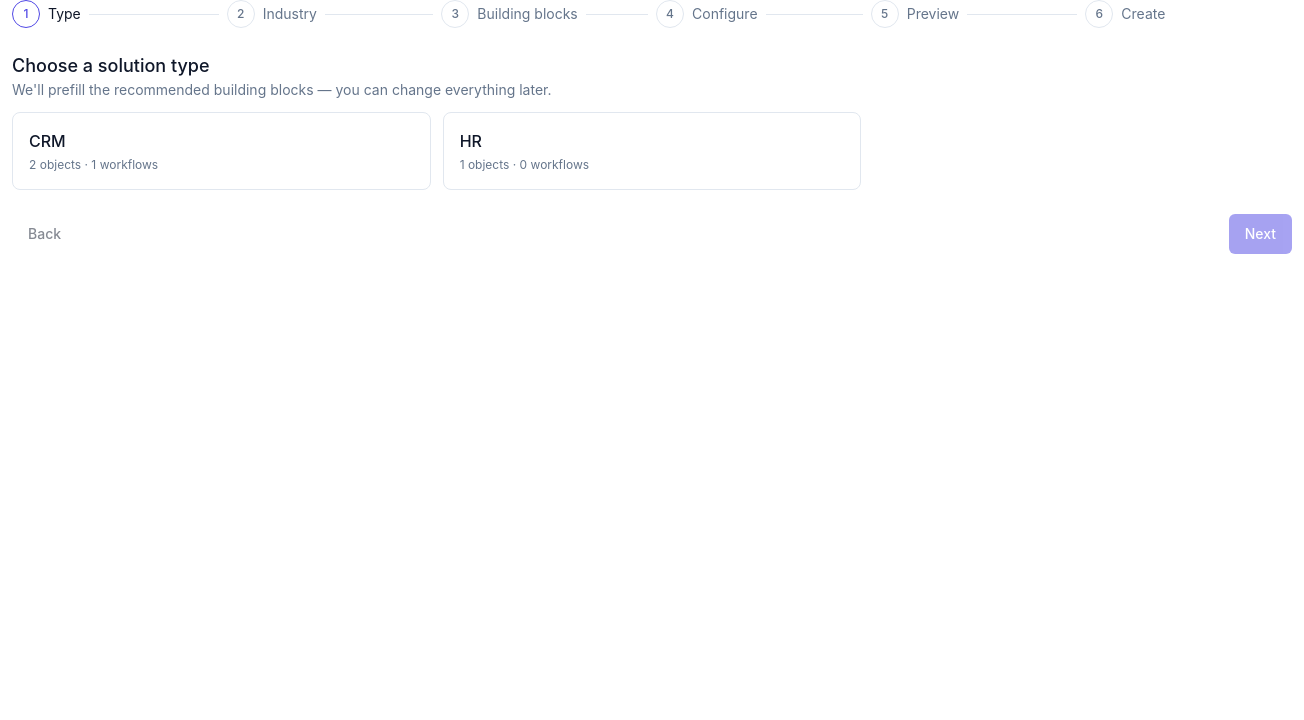
Test case: WizardFlow › merges an industry preset over the type defaults
Click the button with aria-label "Select CRM".
click(47, 141)  # box [12, 112, 431, 190]
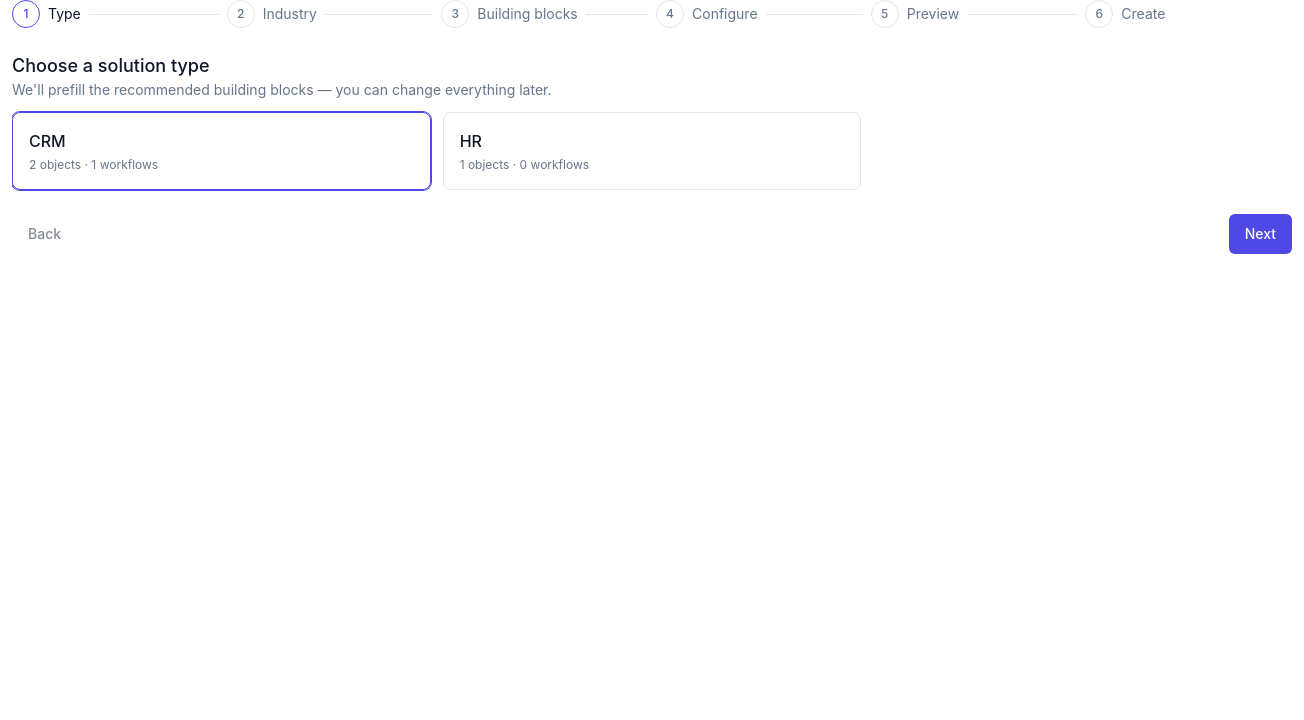
Click the button "Next".
click(1260, 234)  # box [1229, 214, 1292, 254]
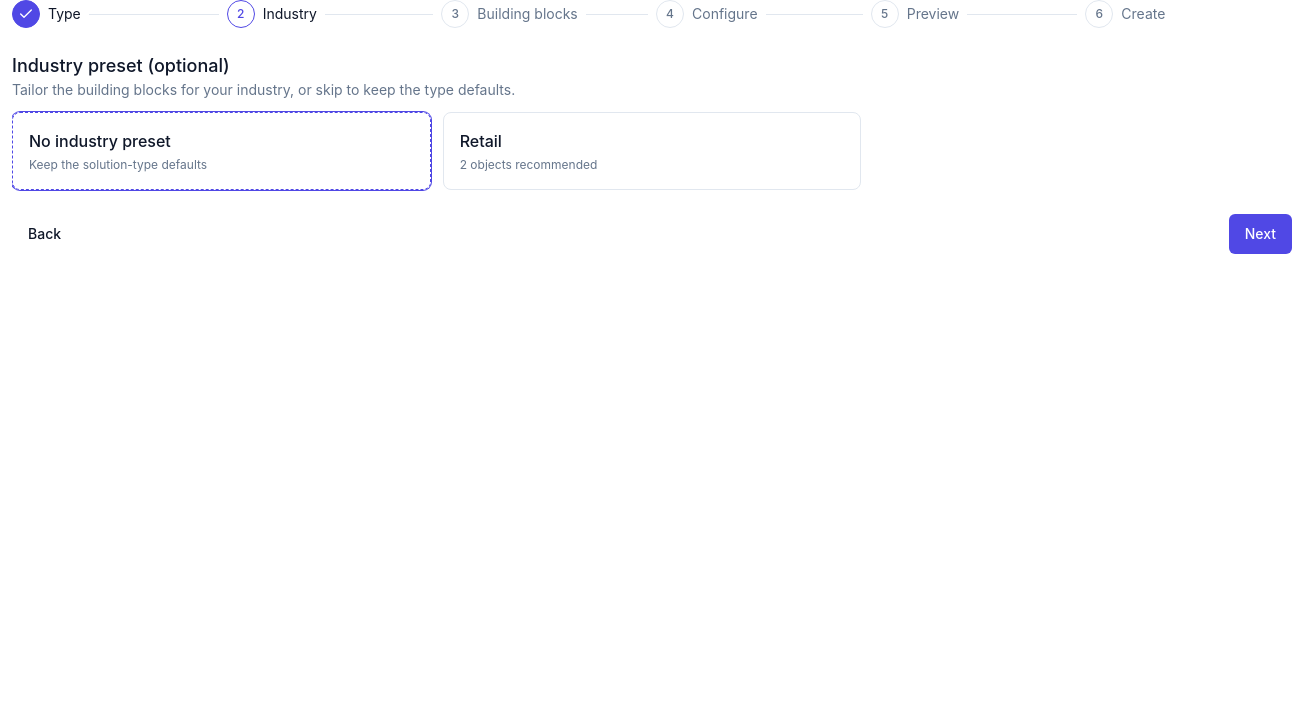
Click the button with aria-label "Select Retail".
click(481, 141)  # box [443, 112, 861, 190]
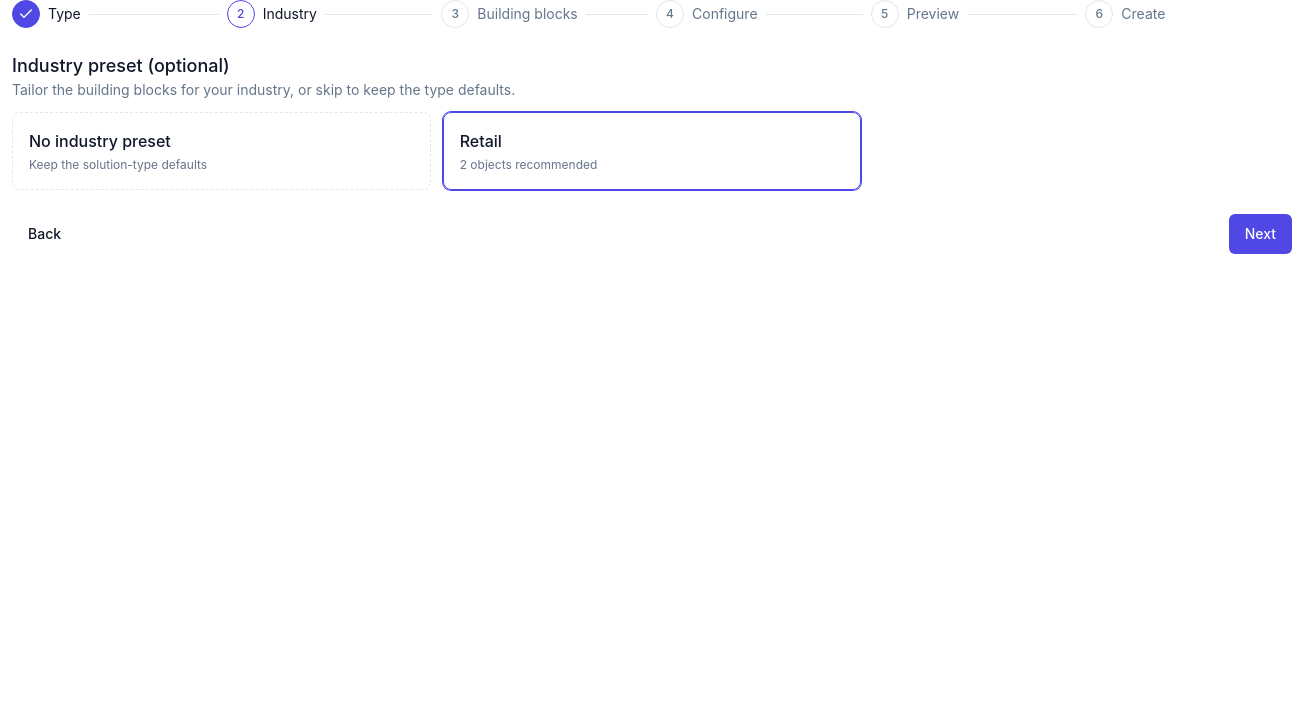
Click the button "Next".
click(1260, 234)  # box [1229, 214, 1292, 254]
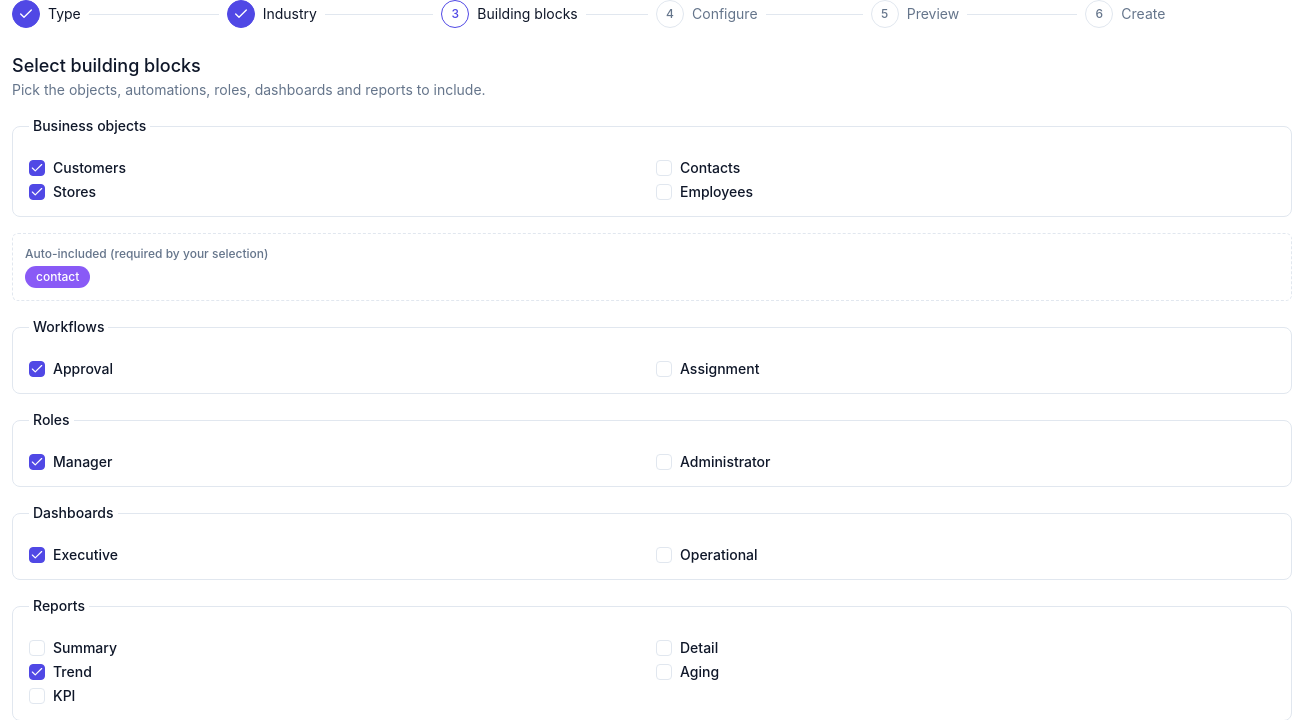
expect the checkbox named "Business objects: Customers" is checked: met, box [29, 160, 45, 176]
expect the checkbox named "Business objects: Stores" is checked: met, box [29, 184, 45, 200]
expect the checkbox named "Business objects: Contacts" is not checked: met, box [656, 160, 672, 176]
